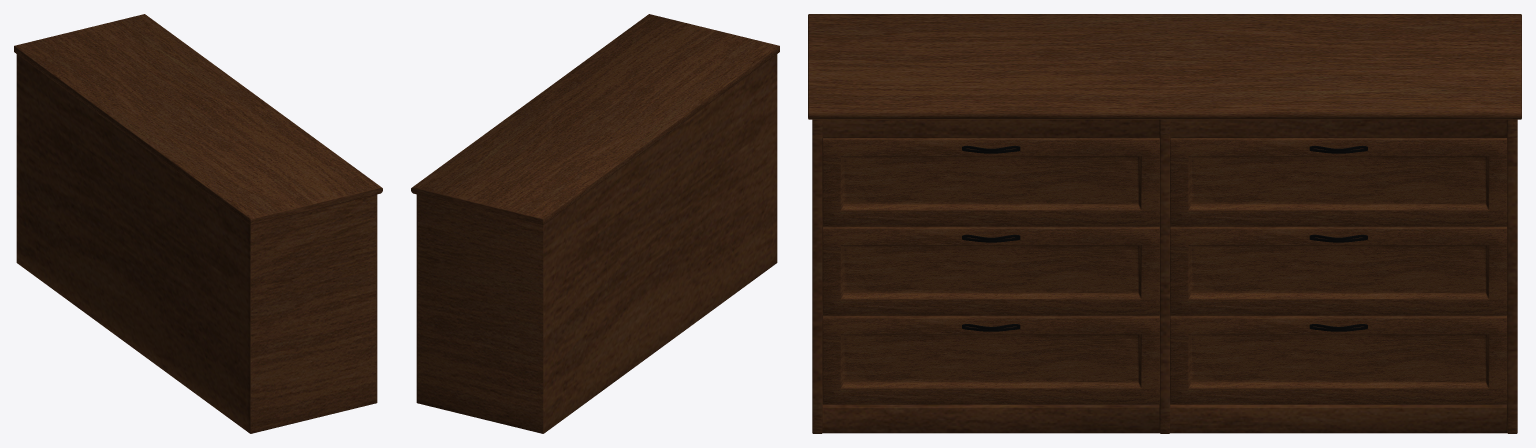
The model's file is closet.glb.
3 views of the same model, side by side, from view 1: azimuth 30°, elevation 25°; view 2: azimuth 150°, elevation 25°; view 3: azimuth 270°, elevation 25° (orthographic). The views are drawn at different scales.
Visible parts, largest first — view 1: SONGESAND_dresser, SONGESAND_dresser_counter; view 2: SONGESAND_dresser, SONGESAND_dresser_counter; view 3: SONGESAND_dresser_counter, SONGESAND_dresser, SONGESAND_dresser_bottom_left_drawer, SONGESAND_dresser_bottom_right_drawer, SONGESAND_dresser_middle_left_drawer, SONGESAND_dresser_middle_right_drawer, SONGESAND_dresser_top_left_drawer, SONGESAND_dresser_top_right_drawer.
Boxes of the visible parts, left/top/right/bottom form: SONGESAND_dresser: left=16, top=54, right=377, bottom=433; SONGESAND_dresser_counter: left=14, top=14, right=382, bottom=224; SONGESAND_dresser: left=416, top=54, right=777, bottom=433; SONGESAND_dresser_counter: left=411, top=14, right=779, bottom=224; SONGESAND_dresser_counter: left=808, top=14, right=1521, bottom=119; SONGESAND_dresser: left=812, top=119, right=1517, bottom=433; SONGESAND_dresser_bottom_left_drawer: left=822, top=315, right=1159, bottom=404; SONGESAND_dresser_bottom_right_drawer: left=1170, top=315, right=1507, bottom=404; SONGESAND_dresser_middle_left_drawer: left=822, top=226, right=1159, bottom=315; SONGESAND_dresser_middle_right_drawer: left=1170, top=226, right=1507, bottom=315; SONGESAND_dresser_top_left_drawer: left=822, top=138, right=1159, bottom=226; SONGESAND_dresser_top_right_drawer: left=1170, top=138, right=1507, bottom=226.
Bounding box in the file's own units: 52.72 × 82.25 × 163.
2 materials, 1 textured.
